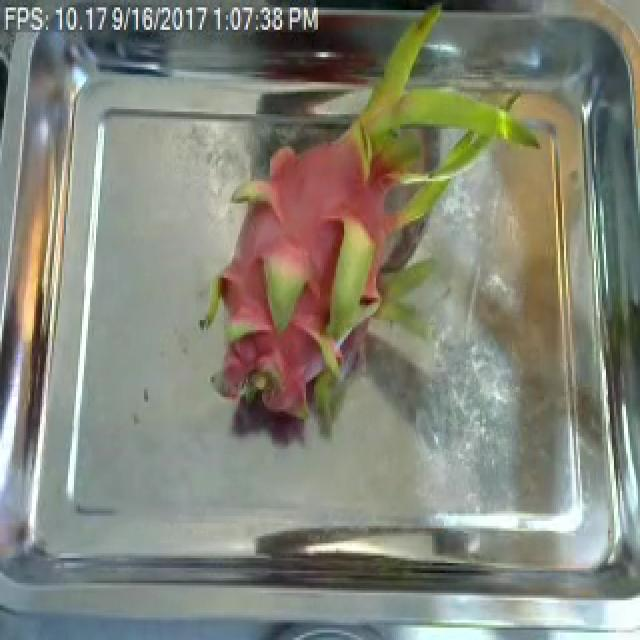fruit: (176, 45, 500, 459)
